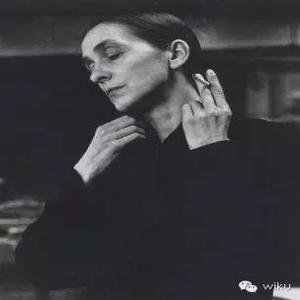cigarette: (192, 74, 214, 88)
